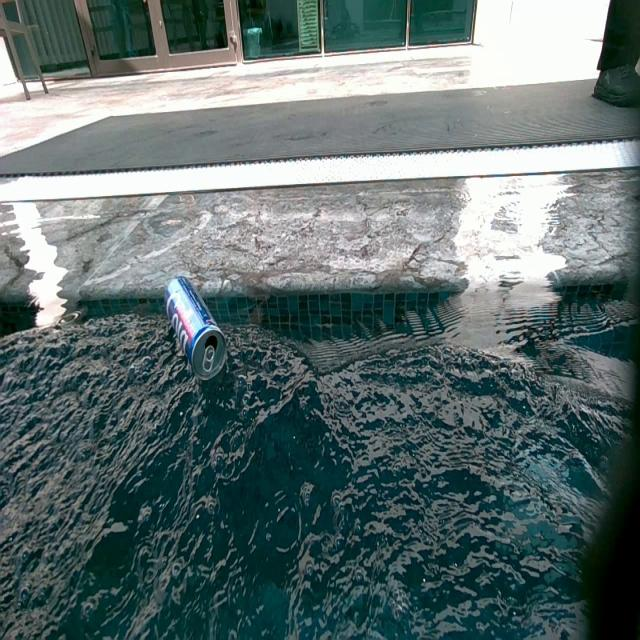Cans: (167, 273, 232, 383)
